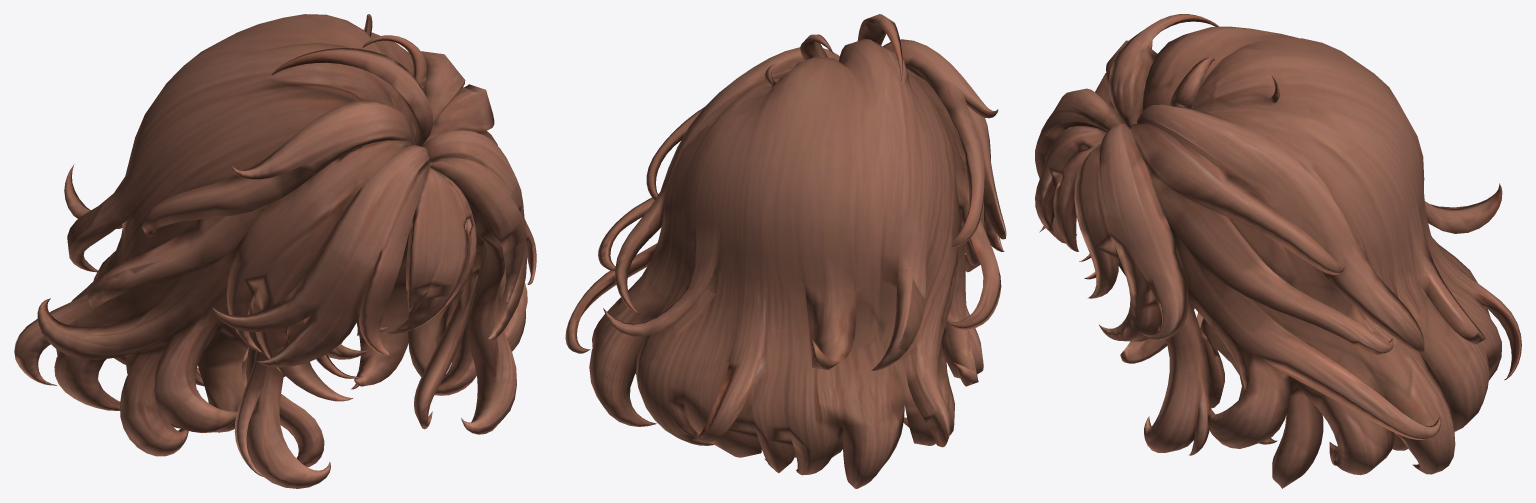
File: hair-long.glb
3 renders of one model, left to right at view 1: azimuth 30°, elevation 25°; view 2: azimuth 150°, elevation 25°; view 3: azimuth 270°, elevation 25°, orthographic. The views are drawn at different scales.
Visible parts, largest first — view 1: c9c184d8_d5c5_43ab_a0fc_ec0da4b1e27d; view 2: c9c184d8_d5c5_43ab_a0fc_ec0da4b1e27d; view 3: c9c184d8_d5c5_43ab_a0fc_ec0da4b1e27d.
Part boxes in pixels (x1,y1,x2,y2): c9c184d8_d5c5_43ab_a0fc_ec0da4b1e27d: (14, 14, 536, 488); c9c184d8_d5c5_43ab_a0fc_ec0da4b1e27d: (565, 14, 1006, 488); c9c184d8_d5c5_43ab_a0fc_ec0da4b1e27d: (1035, 14, 1521, 488).
Size of the model in its own units: 0.9985 by 0.8989 by 0.9995.
Materials: 1 (1 with a texture image).
